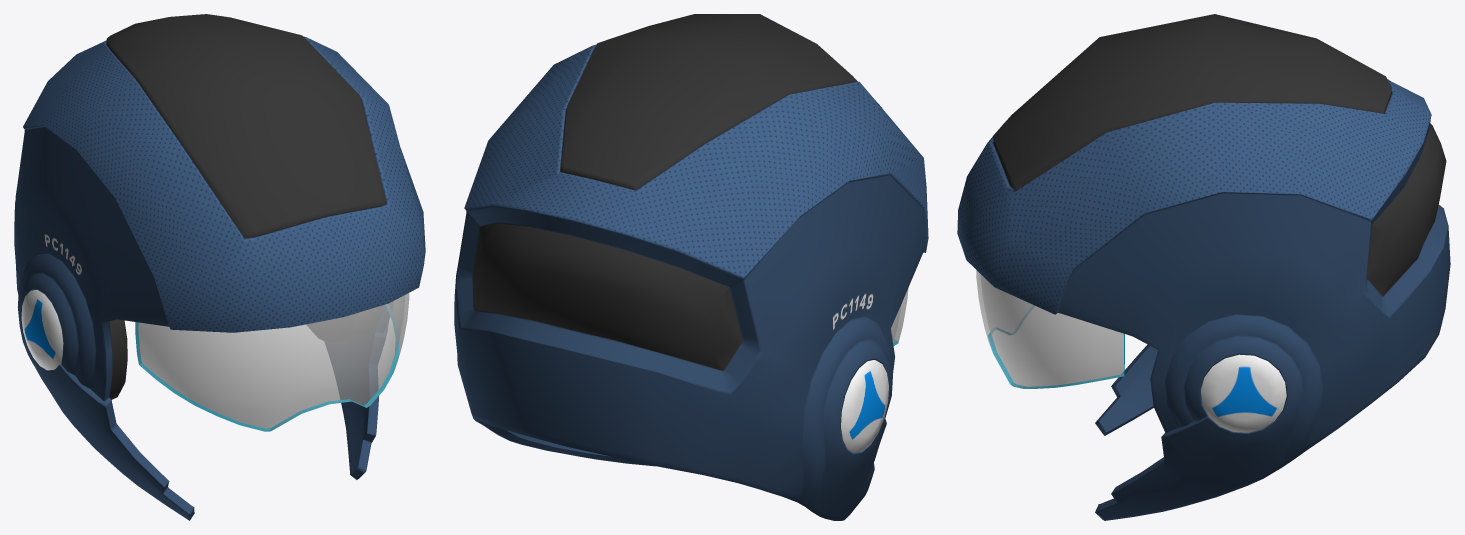
The model's file is helmet.fbx.
3 views of the same model, side by side, from view 1: azimuth 30°, elevation 25°; view 2: azimuth 150°, elevation 25°; view 3: azimuth 270°, elevation 25° (orthographic). The views are drawn at different scales.
Visible parts, largest first — view 1: helmet, visor; view 2: helmet; view 3: helmet, visor.
Boxes of the visible parts, left/top/right/bottom form: helmet: left=14, top=14, right=425, bottom=520; visor: left=135, top=293, right=409, bottom=431; helmet: left=454, top=14, right=928, bottom=520; helmet: left=957, top=14, right=1450, bottom=520; visor: left=976, top=270, right=1124, bottom=388.
Size of the model in its own units: 1.19 by 1.41 by 1.43.
Materials: 3 (1 with a texture image).
